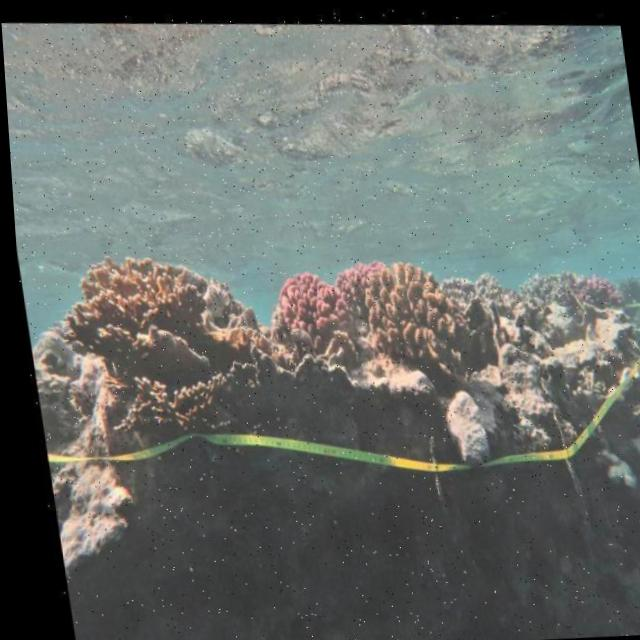Healthy Coral: (53, 244, 226, 388), (330, 254, 483, 386), (255, 261, 359, 355), (548, 247, 629, 321)
